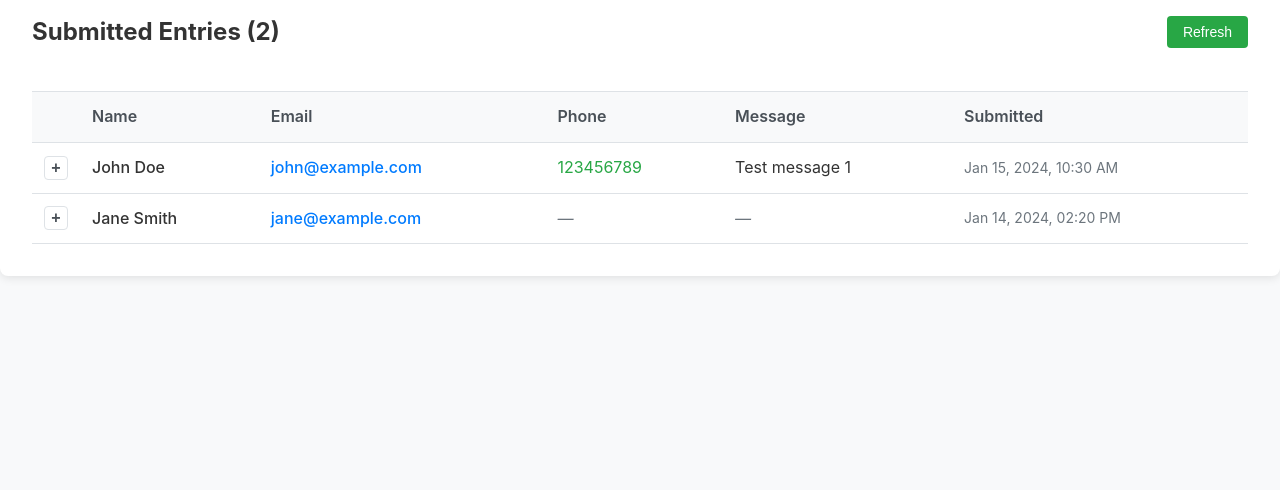
Test: EntriesTable › Row expansion functionality › collapses row when expand button is clicked again
This screenshot has width=1280, height=490.
Click the button named "expand row": click(56, 168) [44, 156, 68, 180]
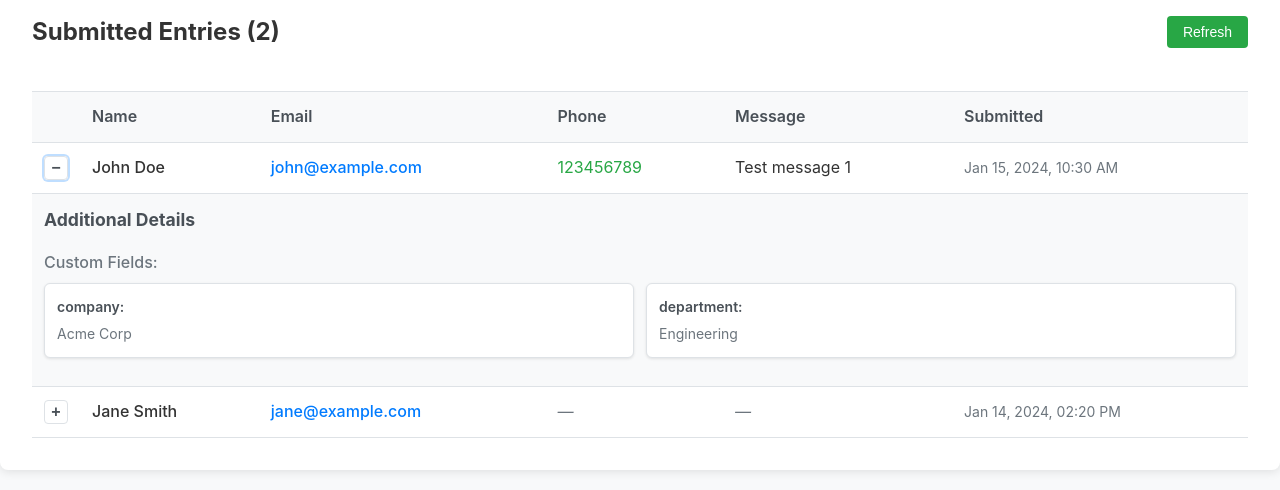
Now the heading "Additional Details" is shown, box [44, 209, 195, 230]
Click the button named "collapse row": click(56, 168) [44, 156, 68, 180]
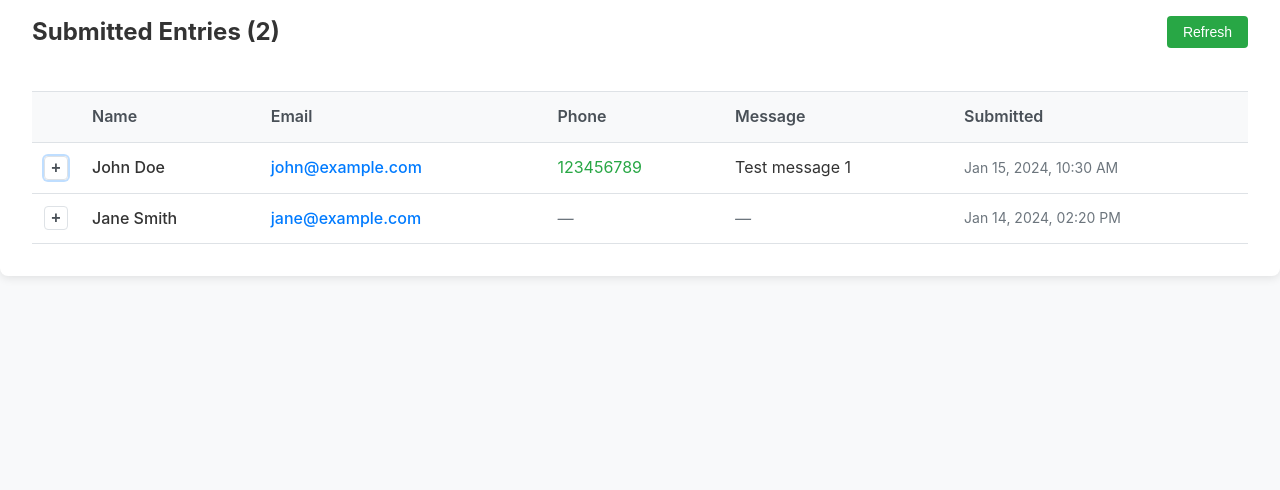
Now the heading "Additional Details" is gone
